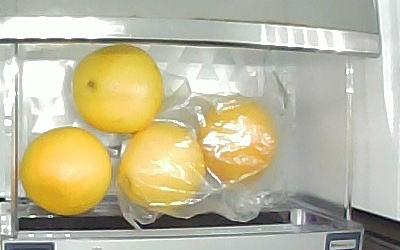grapefruit: (74, 46, 163, 134), (21, 127, 111, 214)
grapefruit_vinyl: (195, 101, 280, 186), (120, 125, 205, 209)
